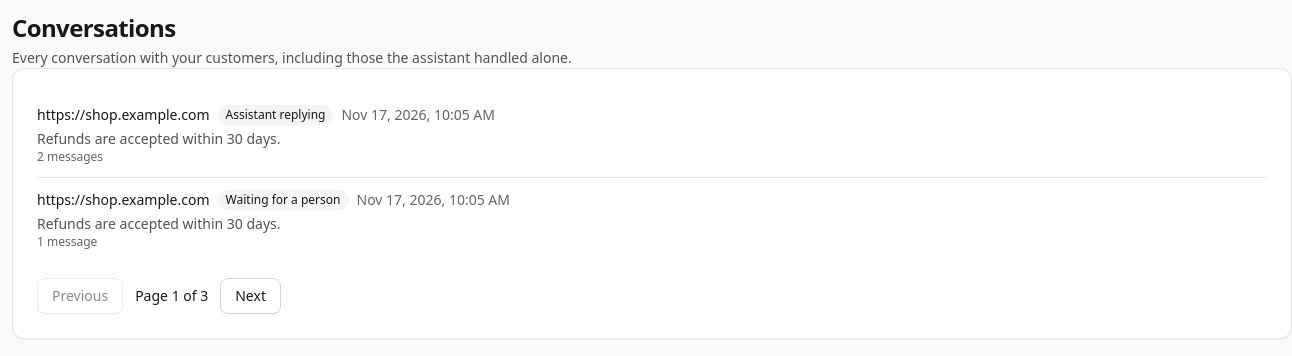
conversations › lists conversations with their state and pages through them
The width and height of the screenshot is (1292, 356).
Expected: the text "Waiting for a person" is shown, [218,190,348,210]
Expected: the text "Assistant replying" is shown, [218,105,334,125]
Click the button "Next" at coordinates (251, 296), box [220,278,281,314]
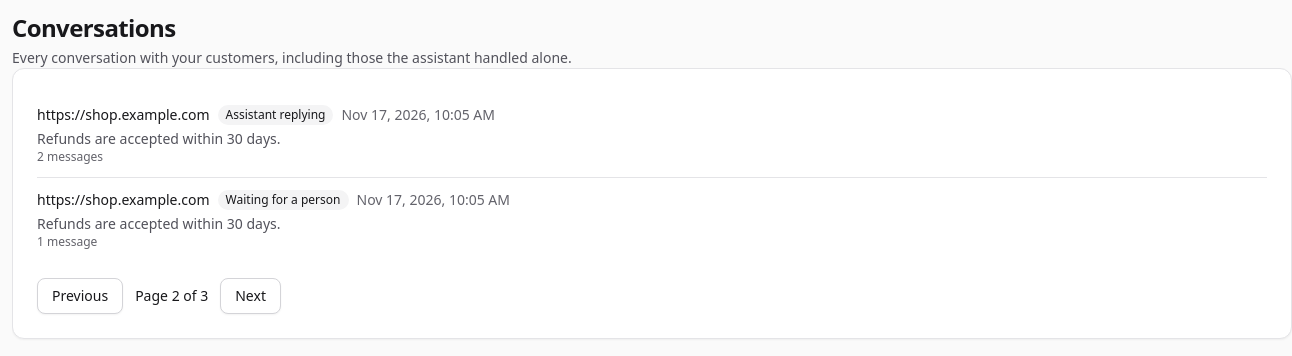
Now the text "Page 2 of 3" is shown, box [135,286,208,306]
